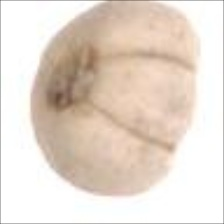L5: (96, 51, 199, 154), (35, 37, 99, 115)
L6: (29, 1, 201, 201)
